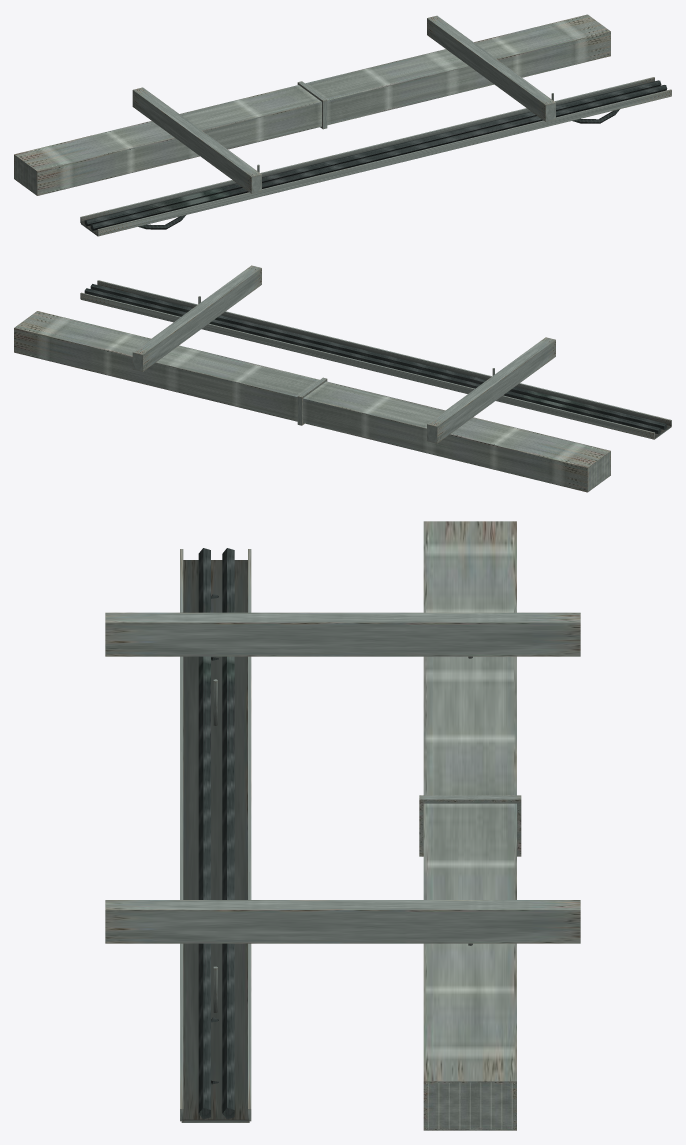
The model's file is ceiling_coolant_tunnel.glb.
The picture shows the model from 3 angles, top to bottom: view 1: azimuth 30°, elevation 25°; view 2: azimuth 150°, elevation 25°; view 3: azimuth 270°, elevation 25°; orthographic projection. The views are drawn at different scales.
Visible parts, largest first — view 1: Ceiling; view 2: Ceiling; view 3: Ceiling.
Part boxes in pixels (x1,y1,x2,y2): Ceiling: (14,14,671,236); Ceiling: (14,265,671,492); Ceiling: (105,521,580,1130).
Bounding box in the file's own units: 7.8 × 0.6785 × 2.8.
1 material, 1 textured.
